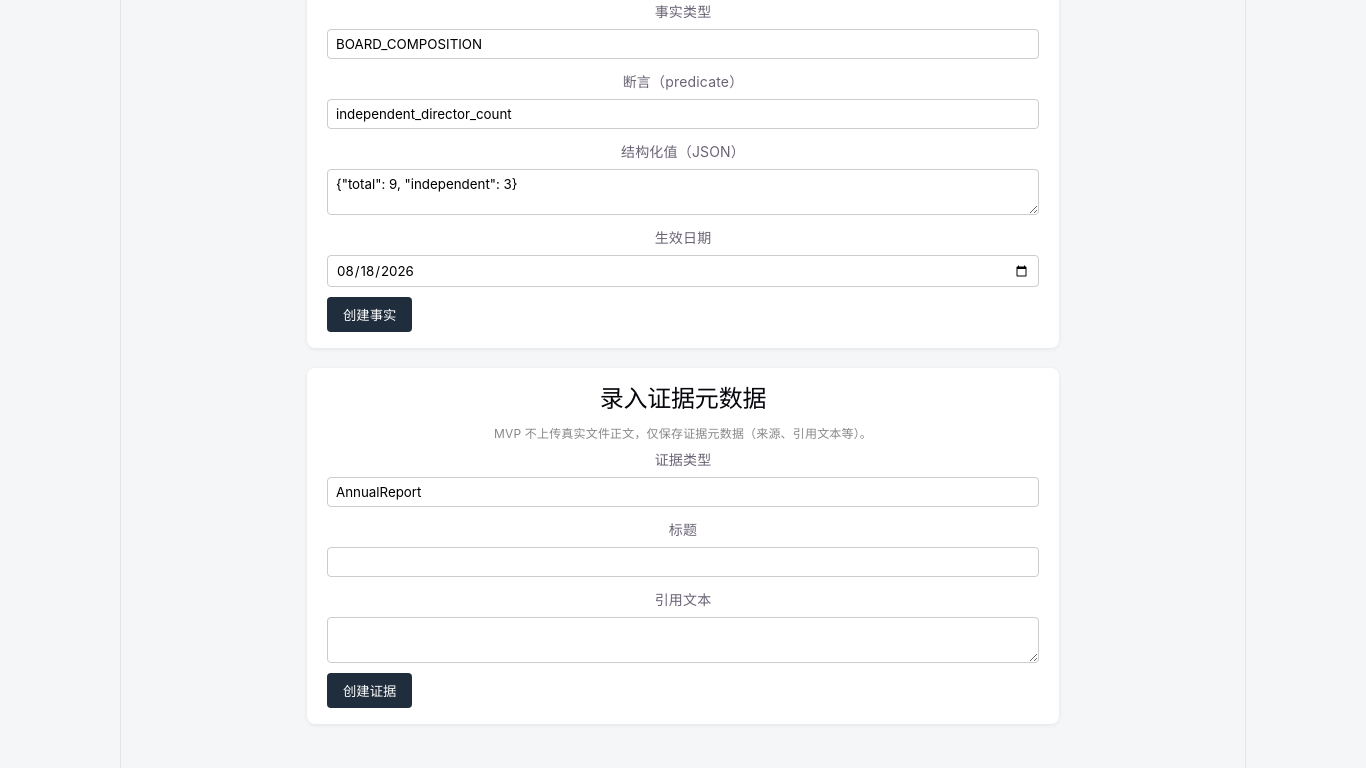
Test: FactEvidenceView › creates evidence metadata and shows the linking hint
This screenshot has width=1366, height=768.
(page scrolled)
Type "2025 年年报" into the field labelled "标题".
click(683, 562); type("2025 年年报")  # box [327, 547, 1039, 577]
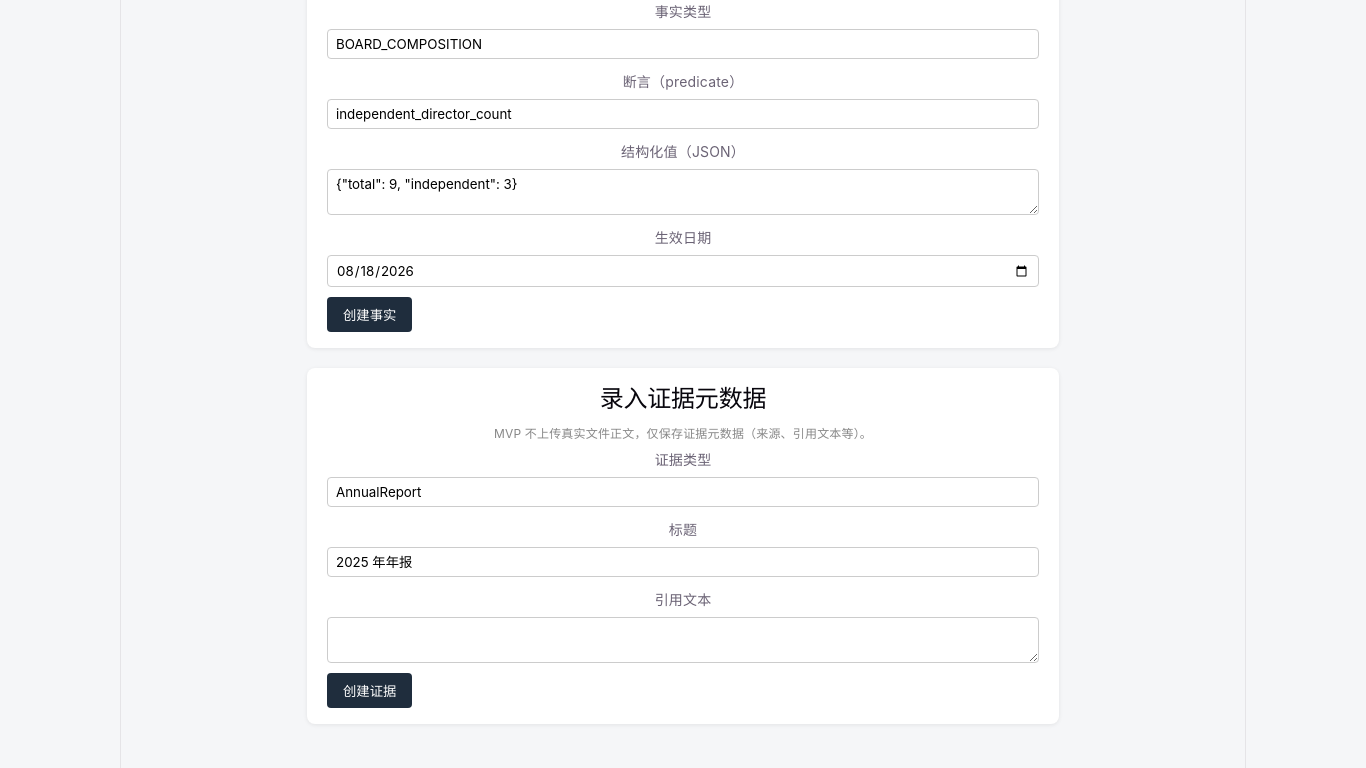
Submit the form "证据类型 标题 引用文本 创建证据", box [327, 447, 1039, 708]
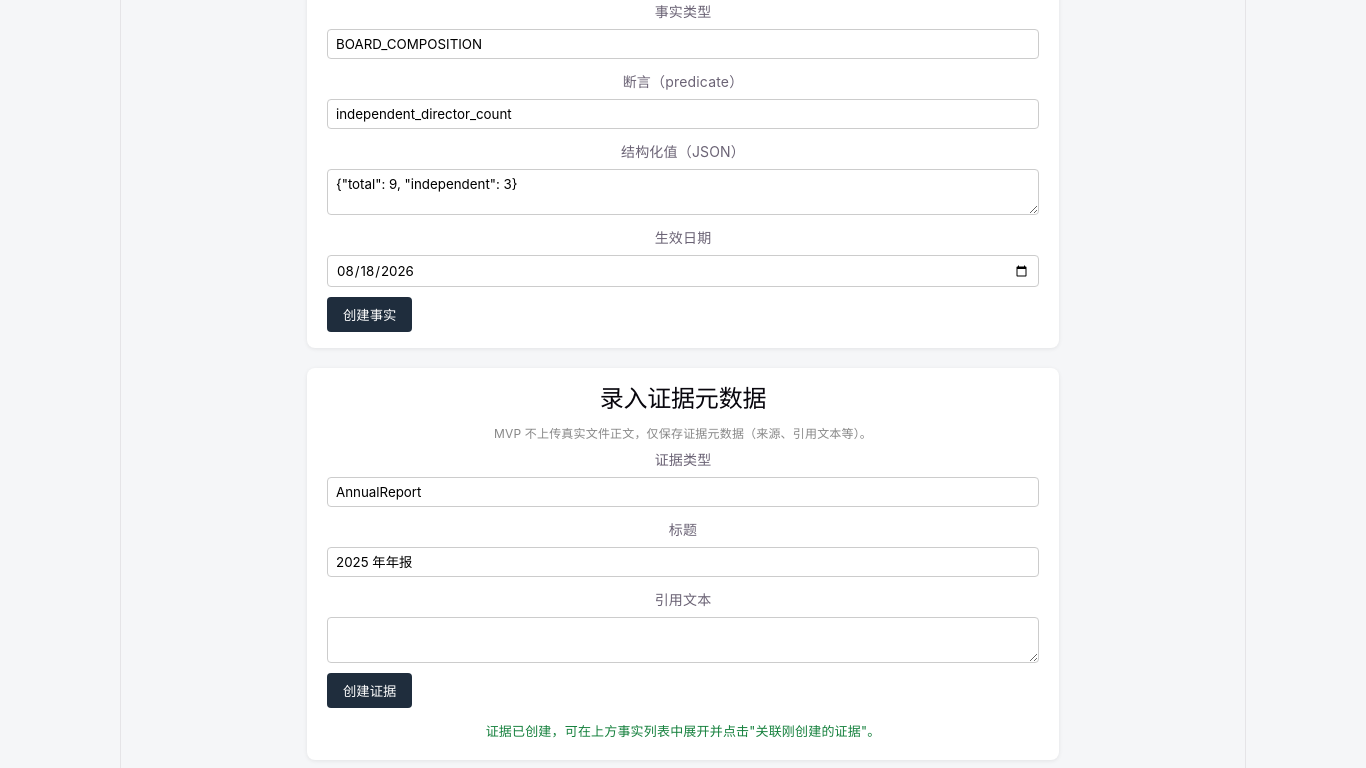
Result: the text "证据已创建，可在上方事实列表中展开并点击\"关联刚创建的证据\"" is shown at [486, 723, 880, 739]
